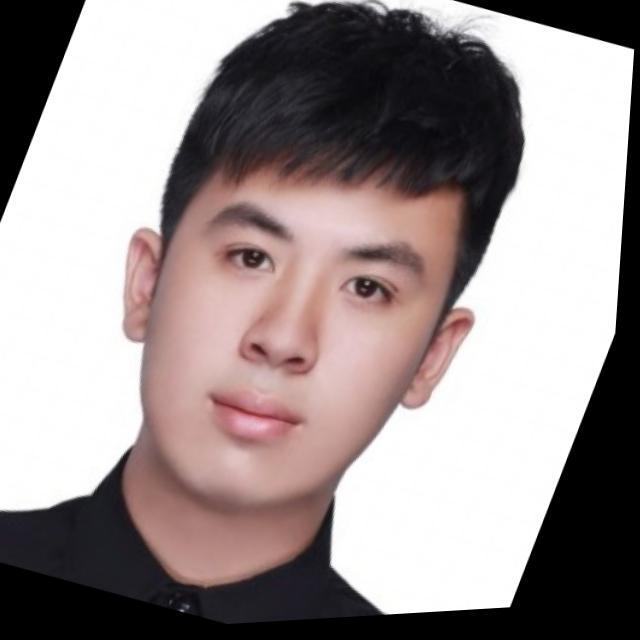Nonhelmet: (116, 0, 529, 512)
